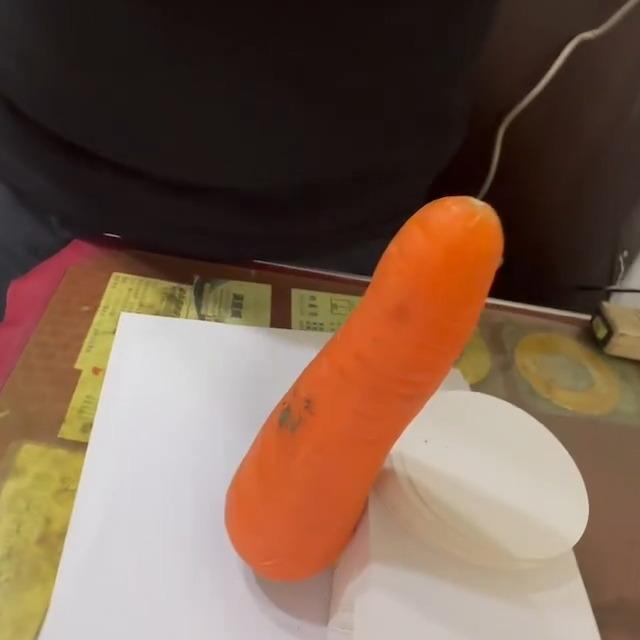carrot: (222, 194, 507, 584)
